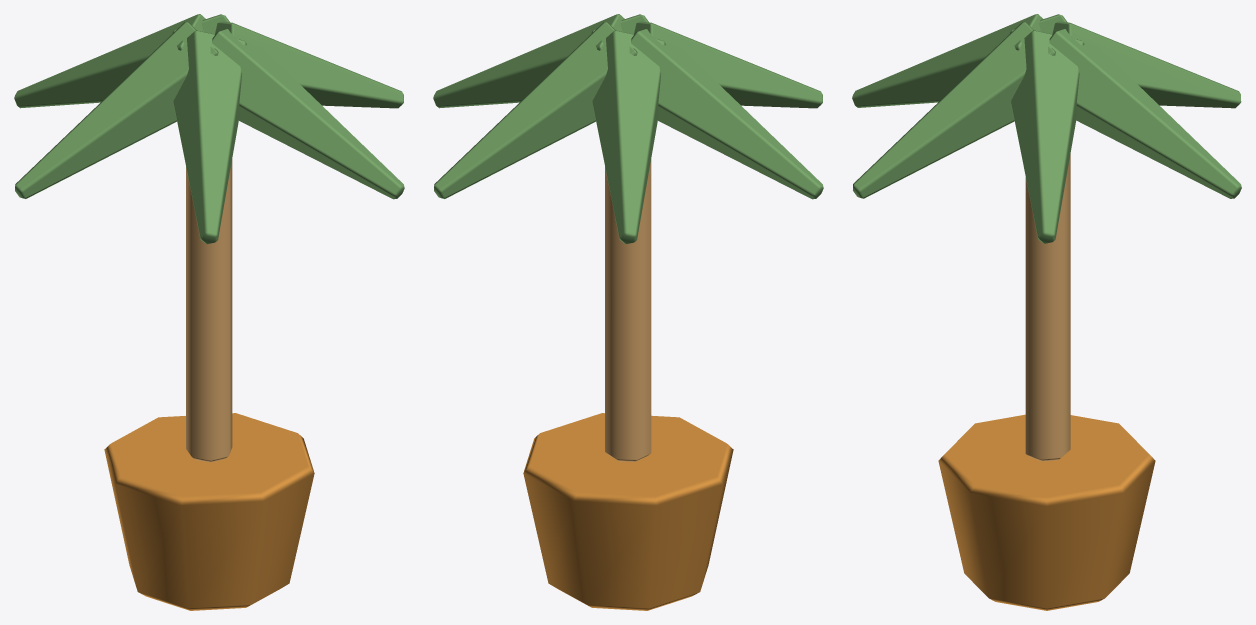
The model's file is stage_planter.glb.
The picture shows the model from 3 angles, left to right: view 1: azimuth 30°, elevation 25°; view 2: azimuth 150°, elevation 25°; view 3: azimuth 270°, elevation 25°; orthographic projection.
Parts seen in each view (by area): view 1: stage_planter; view 2: stage_planter; view 3: stage_planter.
Part boxes in pixels (left/top/right/bottom): stage_planter: left=14, top=14, right=404, bottom=610; stage_planter: left=433, top=14, right=823, bottom=610; stage_planter: left=852, top=14, right=1241, bottom=610.
Size of the model in its own units: 1.54 by 2.12 by 1.34.
